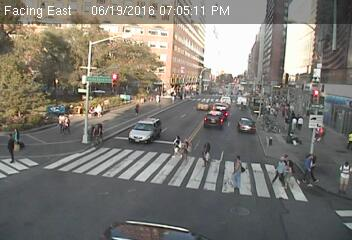neg: (172, 60, 201, 99), (253, 76, 278, 110), (187, 190, 212, 224), (302, 50, 326, 82), (258, 32, 281, 62), (107, 167, 129, 196), (89, 69, 110, 98), (64, 178, 84, 205), (133, 56, 152, 81), (209, 99, 228, 124), (292, 113, 307, 134)
pos: (224, 152, 254, 192), (298, 151, 321, 181), (328, 159, 351, 189), (1, 132, 23, 163), (199, 137, 220, 165), (280, 161, 301, 189), (271, 154, 291, 181), (180, 138, 198, 161), (169, 133, 186, 156), (85, 122, 99, 142), (96, 122, 110, 141), (51, 112, 65, 130), (134, 100, 146, 115)
